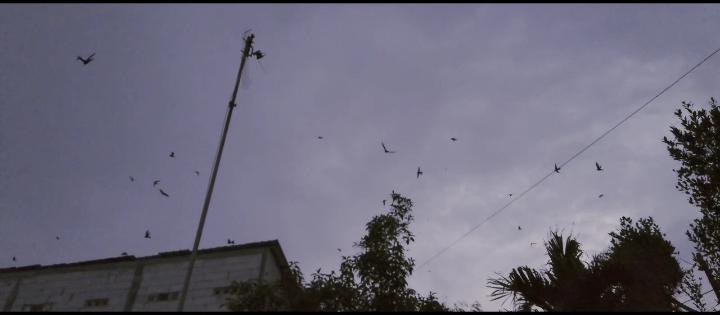walet: (381, 140, 395, 154), (77, 54, 96, 64), (594, 160, 606, 172), (158, 189, 168, 198), (417, 166, 424, 178), (554, 163, 560, 173)
